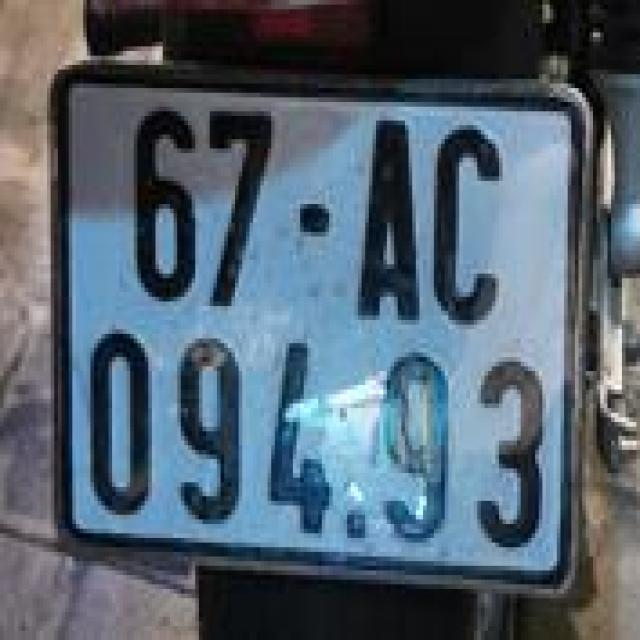0: (76, 311, 163, 528)
3: (477, 343, 550, 557)
4: (258, 324, 342, 542)
6: (118, 95, 212, 313)
7: (204, 90, 280, 322)
9: (370, 339, 458, 547), (172, 318, 248, 526)
A: (346, 109, 428, 341)
C: (427, 114, 506, 340)
